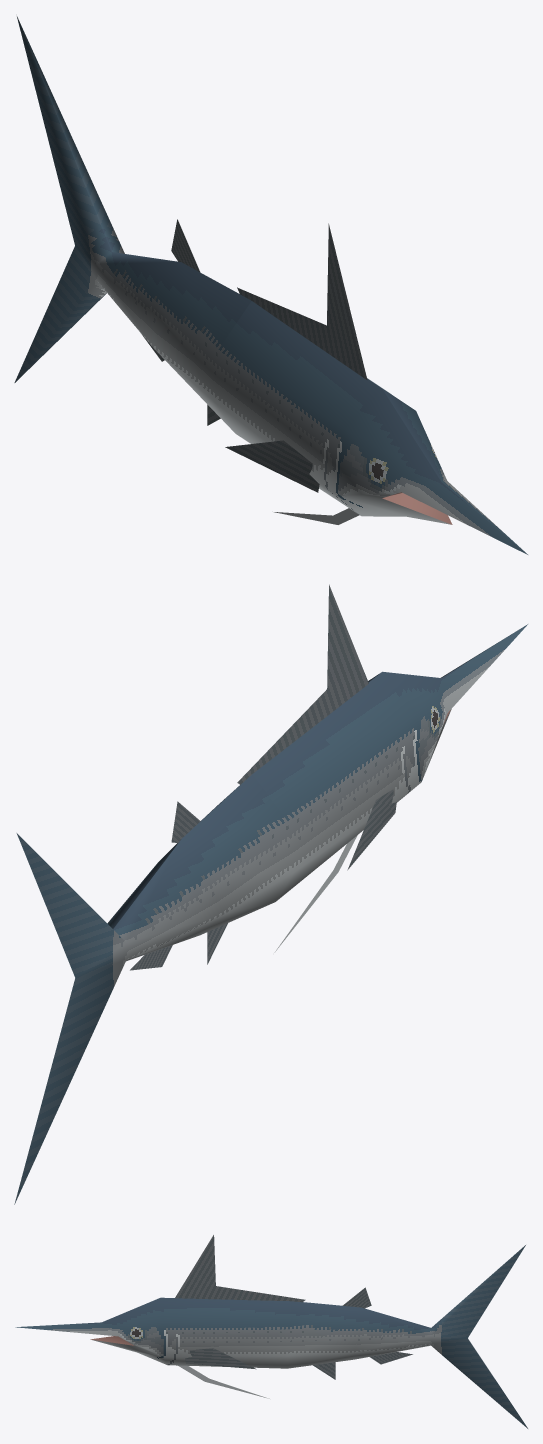
The model's file is 0595_Swordfish.glb.
3 renders of one model, top to bottom at view 1: azimuth 30°, elevation 25°; view 2: azimuth 150°, elevation 25°; view 3: azimuth 270°, elevation 25°, orthographic. The views are drawn at different scales.
Visible parts, largest first — view 1: part_0; view 2: part_0; view 3: part_0.
Boxes of the visible parts, bbox=[...] form: part_0: bbox=[14, 16, 527, 554]; part_0: bbox=[14, 584, 527, 1204]; part_0: bbox=[15, 1235, 527, 1428].
Bounding box in the file's own units: 2.13 × 6.51 × 15.54.
Materials: 1 (1 with a texture image).
